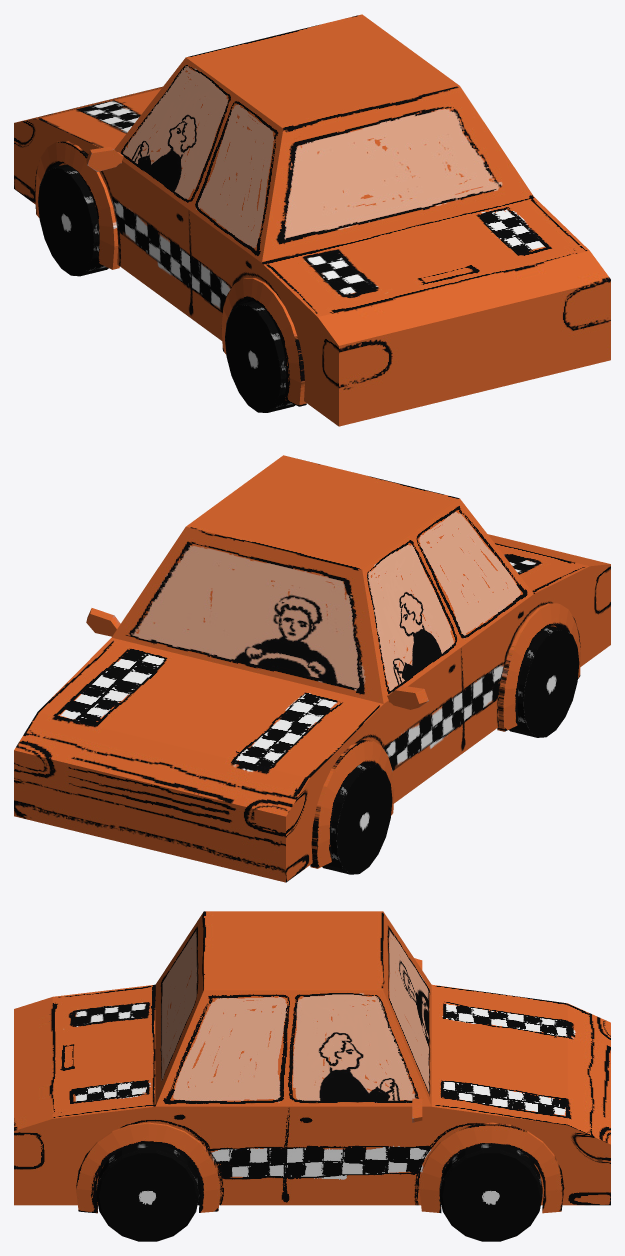
The model's file is autio_narandzasti2.fbx.
The picture shows the model from 3 angles, top to bottom: view 1: azimuth 30°, elevation 25°; view 2: azimuth 150°, elevation 25°; view 3: azimuth 270°, elevation 25°; orthographic projection. The views are drawn at different scales.
Visible parts, largest first — view 1: Box001.002, Box001.003, Box001.005; view 2: Box001.002, Box001.005, Box001.003; view 3: Box001.002, Box001.004, Box001.001.
Boxes of the visible parts, x1=… form: Box001.002: x1=14, y1=14, x2=610, y2=426; Box001.003: x1=38, y1=164, x2=108, y2=276; Box001.005: x1=225, y1=301, x2=295, y2=412; Box001.002: x1=14, y1=455, x2=610, y2=882; Box001.005: x1=509, y1=626, x2=579, y2=737; Box001.003: x1=322, y1=763, x2=392, y2=874; Box001.002: x1=14, y1=911, x2=610, y2=1213; Box001.004: x1=439, y1=1143, x2=542, y2=1241; Box001.001: x1=96, y1=1143, x2=199, y2=1241.
Size of the model in its own units: 4584 by 3115 by 7553.
5 materials, 5 textured.
